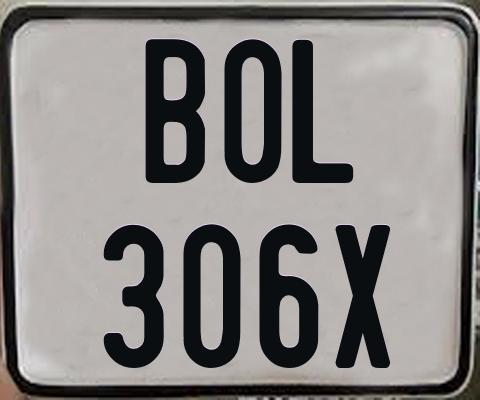0: (180, 224, 238, 374), (224, 36, 282, 185)
3: (103, 224, 168, 373)
6: (258, 221, 319, 365)
B: (143, 37, 203, 187)
L: (291, 37, 356, 183)
X: (334, 225, 392, 374)
